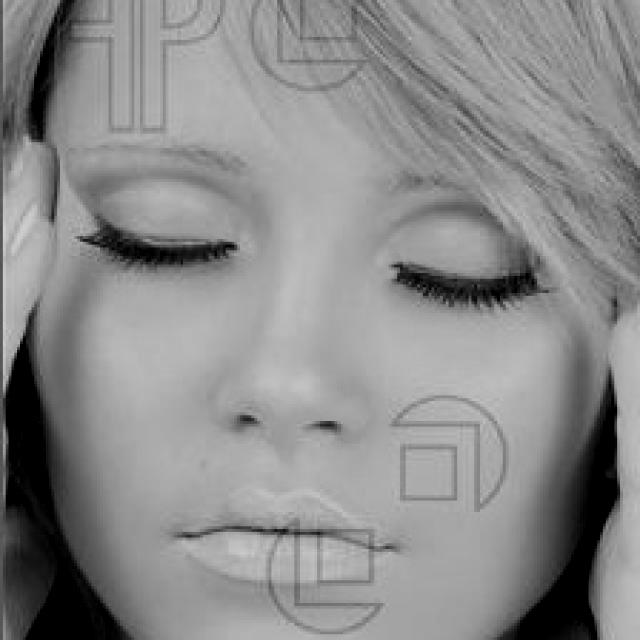real: (46, 23, 575, 632), (72, 176, 574, 322)
